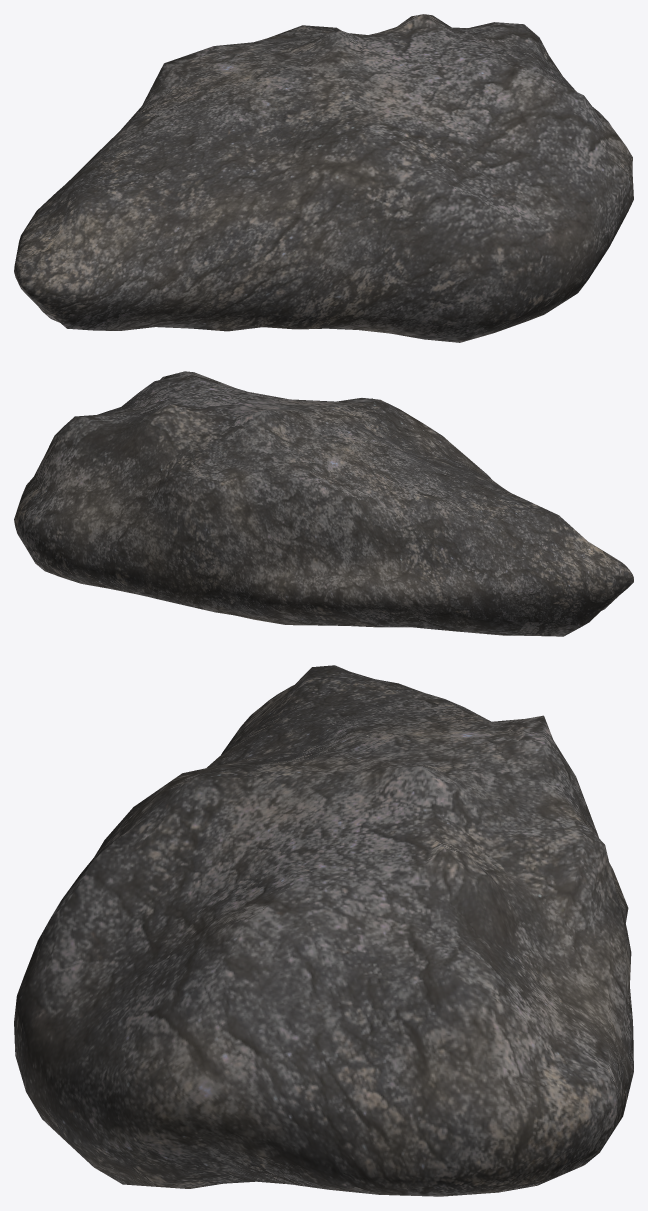
File: Rock05.dae
The picture shows the model from 3 angles, top to bottom: view 1: azimuth 30°, elevation 25°; view 2: azimuth 150°, elevation 25°; view 3: azimuth 270°, elevation 25°; orthographic projection. The views are drawn at different scales.
Parts seen in each view (by area): view 1: Rock05; view 2: Rock05; view 3: Rock05.
Part boxes in pixels (<box>): Rock05: <box>14,14,633,342</box>; Rock05: <box>14,371,633,636</box>; Rock05: <box>14,665,633,1196</box>.
Bounding box in the file's own units: 7689 × 4688 × 2887.
1 material, 1 textured.
